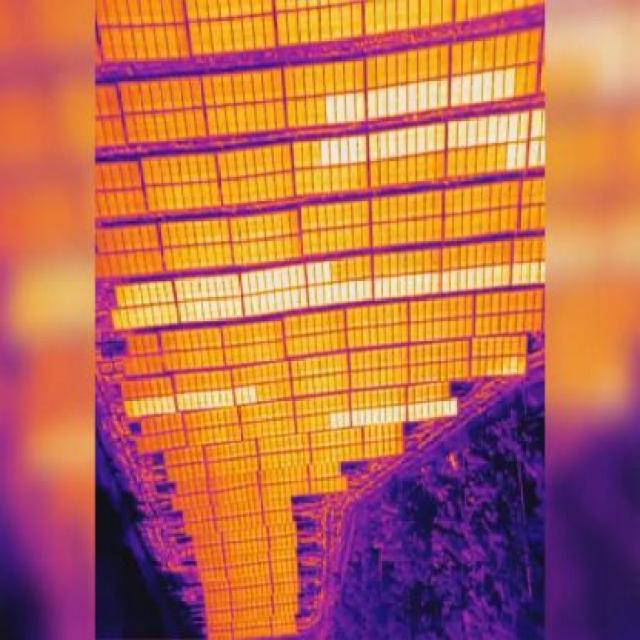diode: (468, 74, 480, 105), (504, 66, 514, 100), (518, 112, 530, 139), (528, 141, 540, 167), (438, 78, 448, 109), (396, 84, 406, 115), (494, 67, 503, 101), (367, 134, 378, 161), (483, 70, 492, 102), (417, 80, 426, 112), (456, 77, 467, 103), (496, 115, 506, 143), (344, 92, 354, 120), (334, 95, 344, 123), (506, 114, 516, 141), (516, 142, 526, 169), (248, 270, 260, 292), (484, 117, 494, 143), (338, 138, 348, 164), (324, 94, 334, 120), (463, 119, 472, 147), (446, 123, 456, 148), (412, 126, 422, 151), (326, 140, 336, 165), (464, 265, 474, 290), (507, 144, 516, 171), (448, 79, 457, 106), (408, 84, 417, 111), (357, 134, 366, 161), (384, 134, 394, 158), (366, 94, 376, 118), (423, 125, 432, 150), (527, 260, 536, 285), (436, 122, 444, 150), (212, 275, 222, 297), (146, 279, 156, 301), (530, 112, 539, 136), (474, 119, 483, 143), (386, 89, 394, 116), (377, 89, 385, 116), (356, 91, 364, 118), (151, 278, 160, 302), (404, 131, 414, 152), (306, 265, 316, 286), (376, 134, 384, 160), (319, 140, 327, 166), (396, 133, 404, 158), (150, 300, 158, 325), (481, 265, 490, 287), (274, 286, 283, 308), (240, 293, 249, 315), (224, 295, 233, 317), (174, 279, 183, 301), (322, 259, 331, 281), (429, 80, 436, 108), (295, 268, 303, 292), (404, 403, 414, 422), (258, 269, 268, 288), (132, 306, 142, 325), (136, 396, 146, 415), (381, 277, 390, 298), (351, 281, 360, 302), (270, 268, 279, 289), (536, 143, 544, 166), (142, 303, 150, 326), (182, 301, 192, 319), (182, 278, 192, 296), (537, 260, 545, 282), (390, 275, 398, 297), (332, 283, 340, 305), (310, 285, 318, 307), (256, 293, 264, 315), (277, 266, 286, 285), (207, 298, 216, 317), (119, 283, 128, 302), (123, 308, 132, 327), (164, 283, 173, 302), (128, 282, 137, 301), (348, 139, 355, 163), (232, 294, 240, 315), (501, 355, 510, 373), (113, 307, 122, 325), (458, 121, 465, 144), (521, 263, 528, 286), (511, 265, 518, 287), (265, 289, 272, 311), (205, 275, 212, 297), (412, 404, 421, 421), (215, 299, 223, 318), (222, 276, 230, 295), (229, 273, 237, 292), (540, 112, 546, 137), (441, 270, 447, 295), (422, 275, 429, 296), (175, 302, 182, 323), (357, 281, 365, 299), (340, 282, 348, 300), (189, 277, 197, 295), (166, 305, 174, 323), (157, 305, 165, 323), (136, 281, 144, 299), (200, 275, 206, 299), (249, 296, 257, 313), (415, 276, 422, 295), (501, 266, 507, 288), (474, 265, 480, 287), (457, 268, 463, 290), (326, 282, 332, 304), (240, 273, 246, 295), (201, 299, 207, 321), (193, 298, 199, 320), (152, 392, 158, 414), (492, 265, 498, 286), (450, 268, 456, 289), (431, 272, 437, 293), (399, 277, 406, 295), (316, 262, 322, 283), (375, 277, 382, 295), (174, 392, 181, 410), (432, 400, 440, 415), (200, 391, 208, 406), (383, 407, 391, 422), (424, 399, 430, 418), (391, 406, 397, 425), (406, 275, 412, 294), (287, 265, 293, 284), (165, 396, 172, 412), (366, 280, 372, 298), (301, 288, 307, 306), (293, 288, 299, 306), (248, 384, 254, 402), (194, 390, 200, 408), (188, 392, 194, 410), (180, 390, 186, 408), (158, 394, 164, 412), (286, 290, 292, 307), (218, 390, 224, 407), (332, 412, 339, 426), (511, 356, 517, 372), (361, 408, 367, 424), (353, 408, 359, 424), (240, 386, 246, 402), (208, 391, 214, 407), (227, 388, 233, 404), (451, 398, 457, 414), (146, 396, 152, 412), (319, 286, 324, 305), (398, 405, 404, 420), (376, 408, 382, 423), (368, 410, 374, 425), (340, 411, 346, 426), (418, 403, 424, 417), (346, 410, 352, 424), (443, 400, 449, 414), (236, 388, 242, 402)
hotspot: (516, 368, 522, 372)
